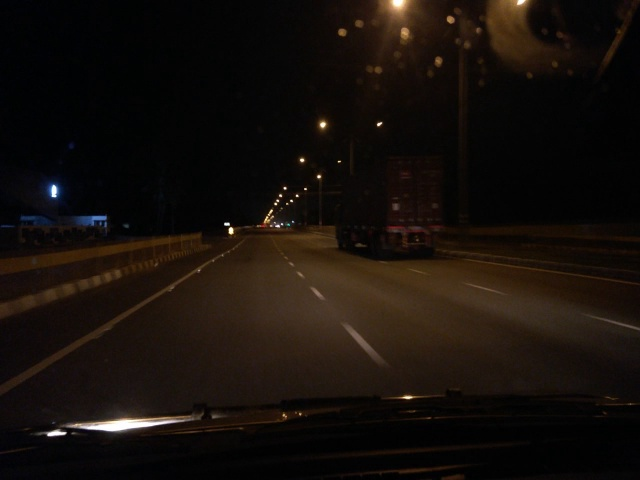truck: (331, 164, 451, 262)
